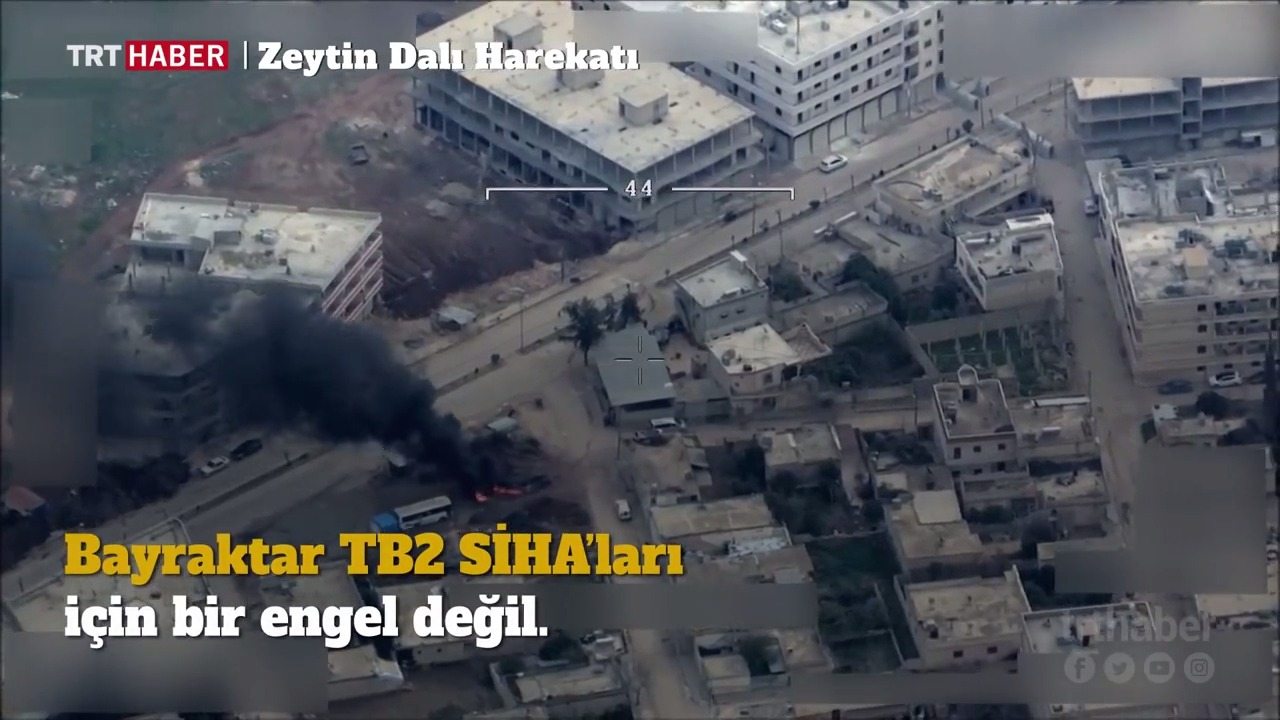arac: (606, 490, 639, 527)
